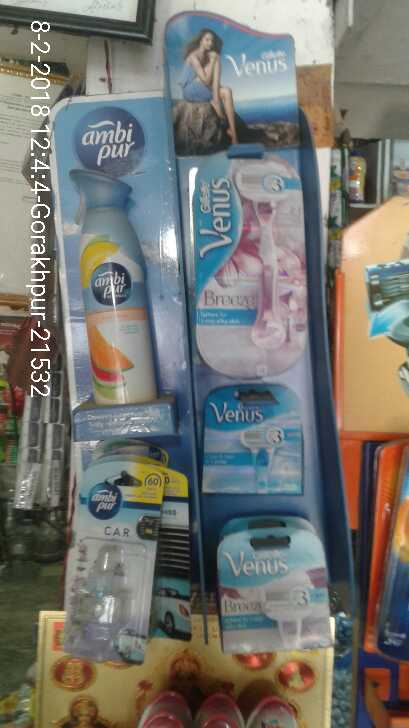beauty: (194, 141, 314, 380), (210, 524, 342, 659), (197, 380, 311, 498)
home: (66, 159, 162, 406), (59, 456, 155, 652)
